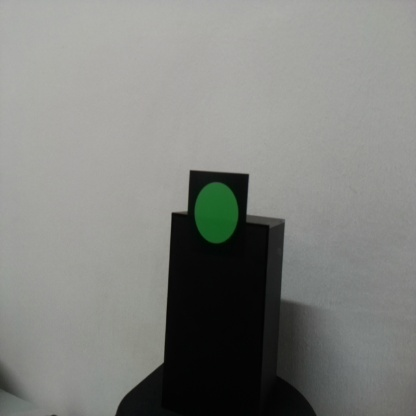id_5: (189, 171, 247, 262)
